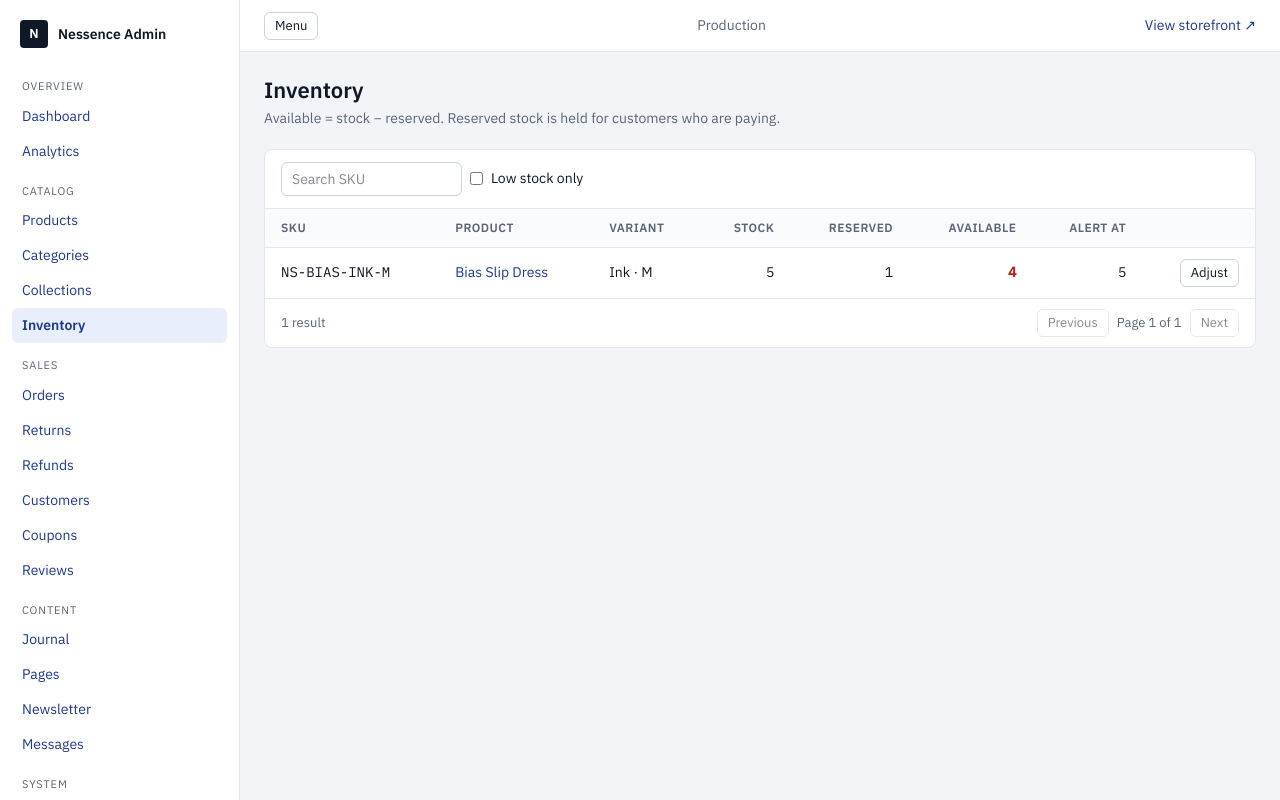
Test: admin screens render against the API contract › inventory adjust opens with live preview and blocks nothing it should not
This screenshot has width=1280, height=800.
Click the button "Adjust" at (1209, 272), box [1180, 258, 1239, 286]
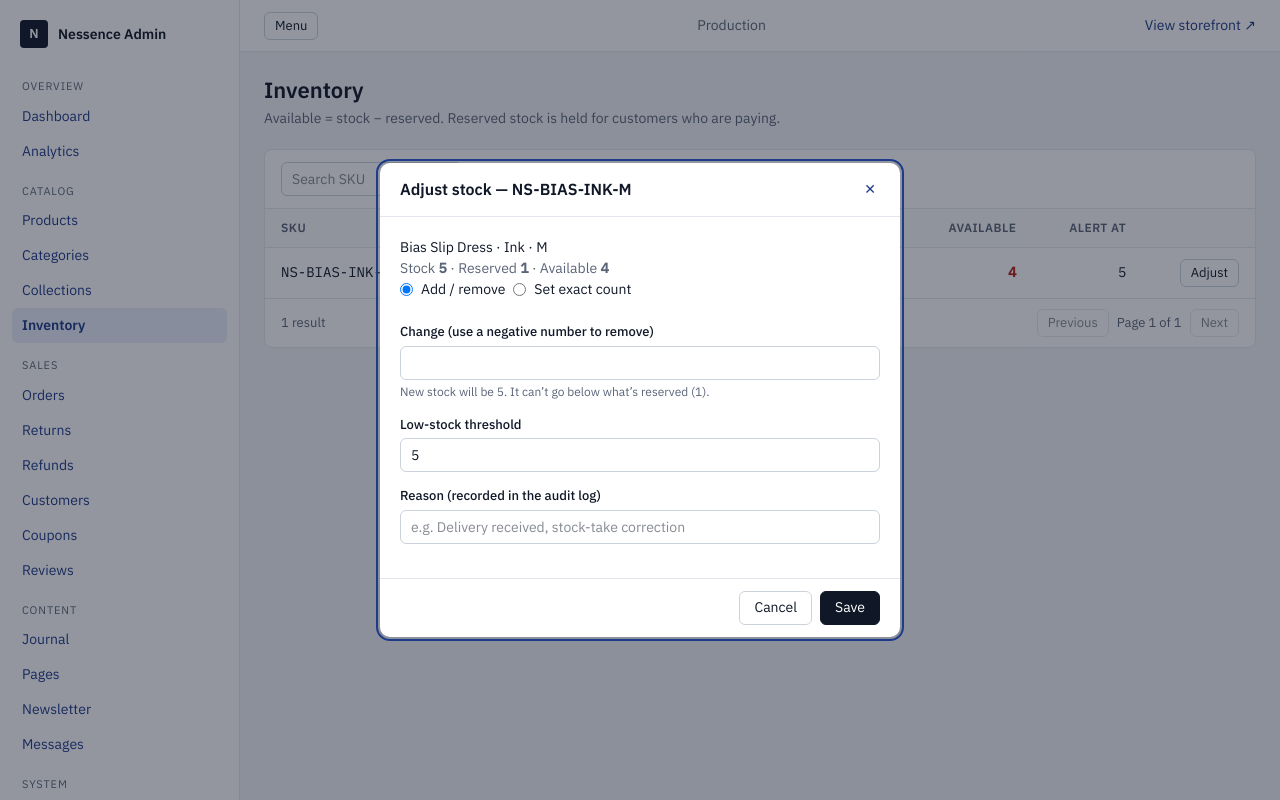
Result: the heading "Adjust stock — NS-BIAS-INK-M" is shown at [400, 179, 632, 200]
Type "-3" into the number field labelled "Change (use a negative number to remove)" at (640, 363), box [400, 346, 880, 380]
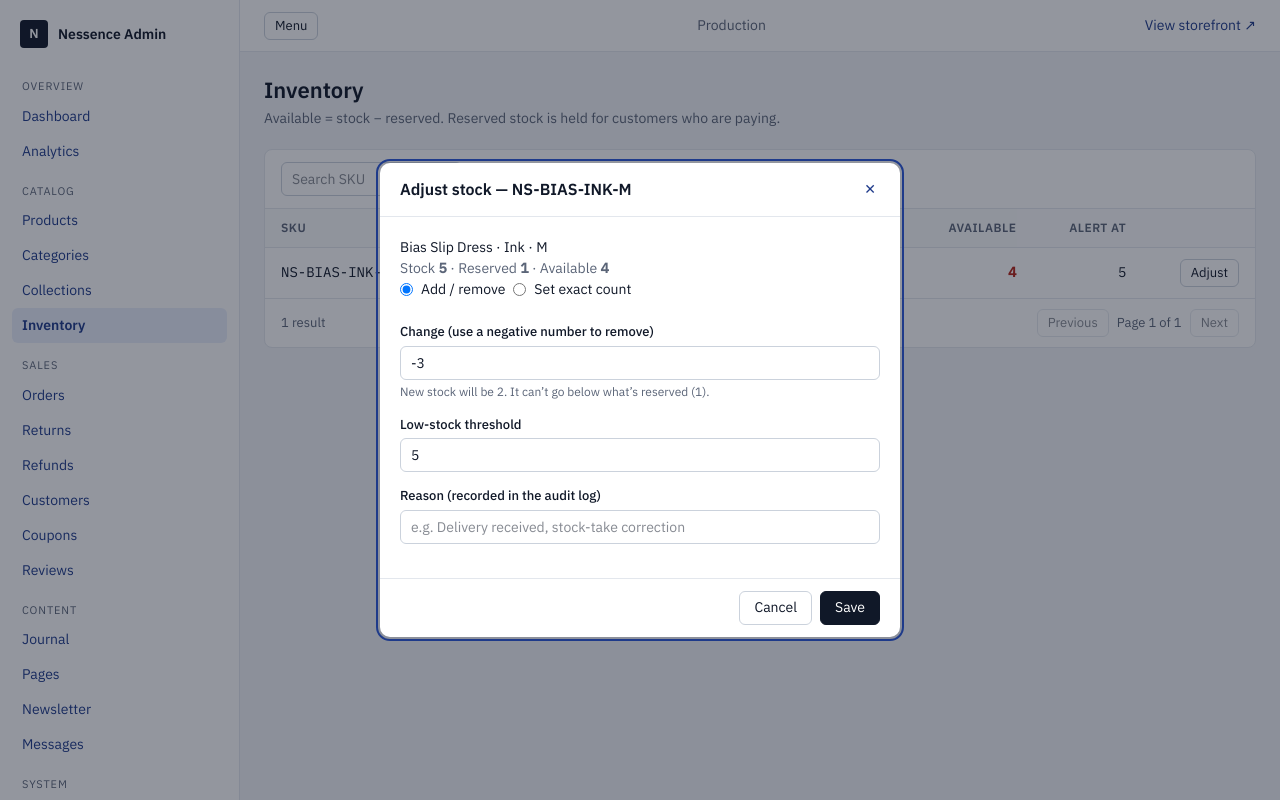
Result: the text "New stock will be 2. It can’t go below what’s reserved (1)." is shown at [400, 384, 710, 399]
